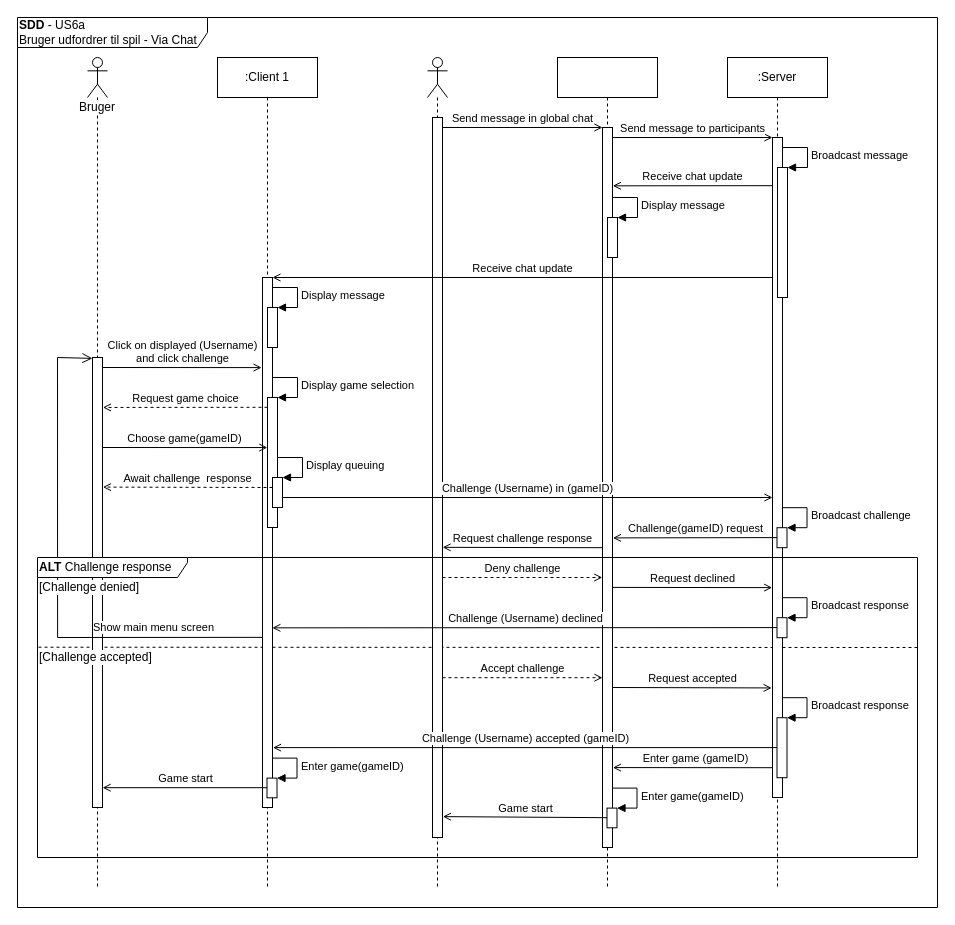
This 955x925 diagram has some shape labels left out. Here are the shapes that lost their labels. From the top down, the centre of each, then its label:
At (437,472): "Modstander".
At (607,472): ":Client 2".
